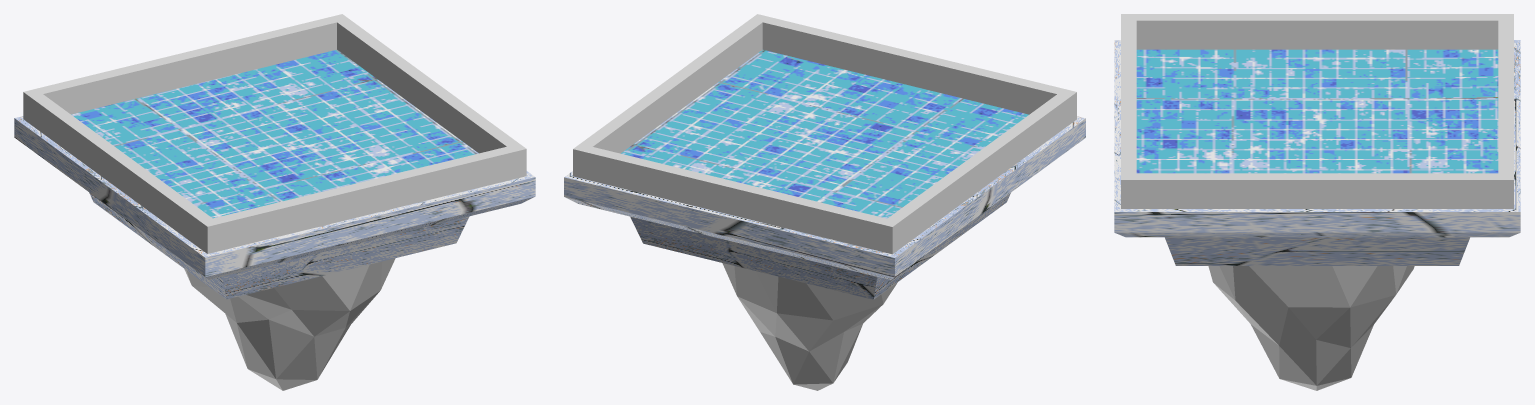
Rendered from PLATAFORMA.fbx.
3 views of the same model, side by side, from view 1: azimuth 30°, elevation 25°; view 2: azimuth 150°, elevation 25°; view 3: azimuth 270°, elevation 25° (orthographic). The views are drawn at different scales.
Visible parts, largest first — view 1: Cube, Cube.001, Icosphere; view 2: Cube, Cube.001, Icosphere; view 3: Cube, Cube.001, Icosphere.
Boxes of the visible parts, <box> form: Cube: <box>14,49,535,299</box>; Cube.001: <box>23,14,526,253</box>; Icosphere: <box>184,258,395,390</box>; Cube: <box>564,50,1085,299</box>; Cube.001: <box>573,14,1076,254</box>; Icosphere: <box>722,263,897,390</box>; Cube: <box>1114,40,1520,265</box>; Cube.001: <box>1121,14,1513,208</box>; Icosphere: <box>1208,266,1414,390</box>.
Bounding box in the file's own units: 598 × 471 × 598.
